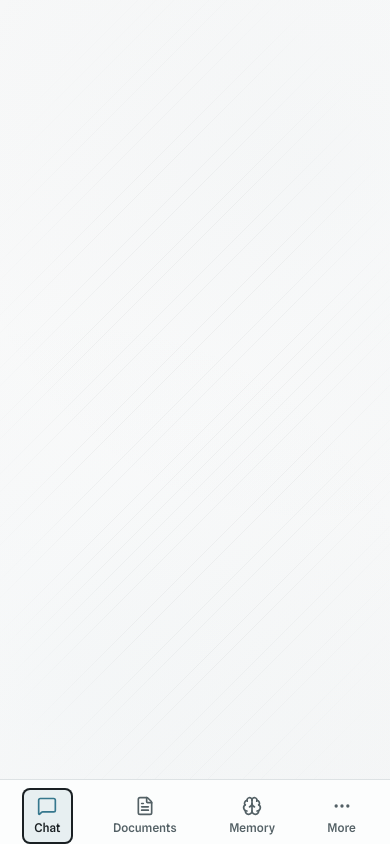
MobileBottomNav Draft Room gating › is present in the More sheet when all capability conditions hold
Click the button with aria-label "More navigation options" at (342,816), box [315, 788, 368, 843]
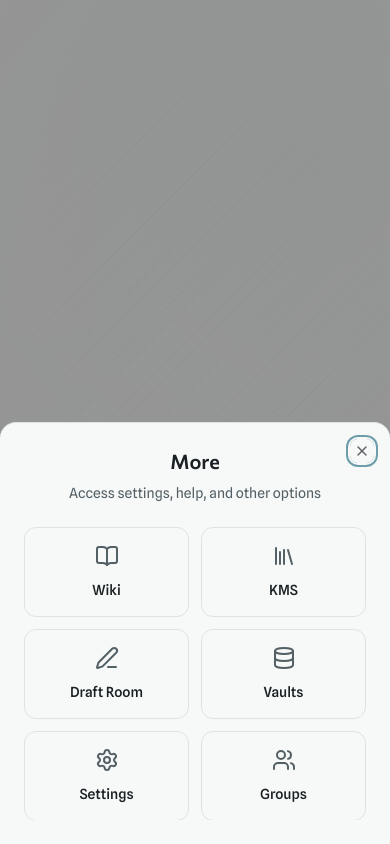
Expected: the button labelled "Draft Room" is shown, [24, 629, 189, 719]
